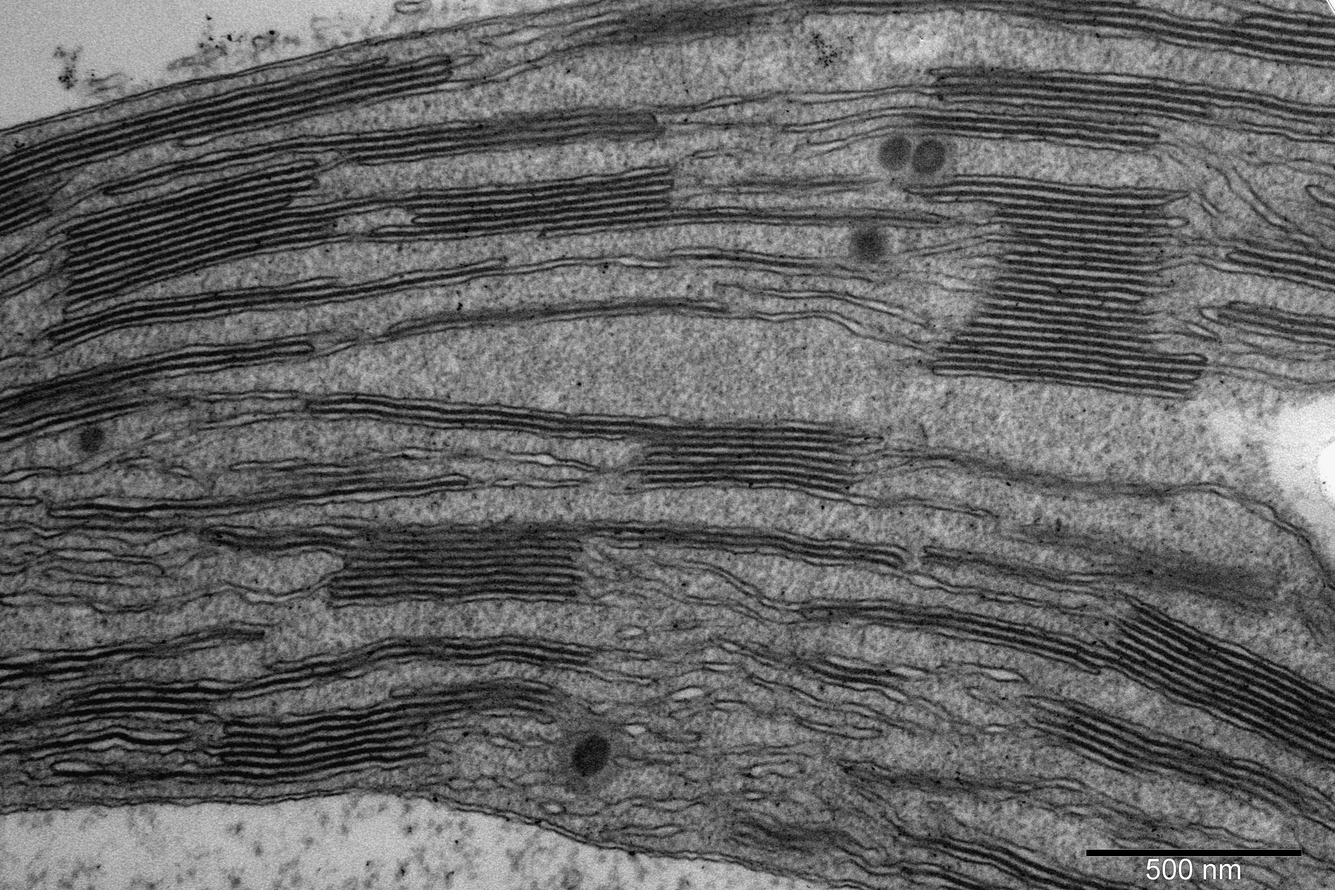granum: (303, 380, 859, 508), (920, 168, 1214, 409), (55, 154, 339, 320), (1020, 691, 1324, 837), (0, 326, 318, 456), (1108, 599, 1335, 778), (235, 510, 589, 614), (160, 46, 458, 152), (1012, 516, 1287, 623), (790, 593, 1113, 680), (42, 269, 344, 358), (333, 95, 672, 170), (259, 627, 605, 698), (0, 101, 171, 241), (405, 158, 677, 244), (601, 515, 917, 584), (535, 0, 814, 71), (931, 62, 1217, 130), (385, 673, 574, 772), (216, 691, 394, 792), (929, 813, 1153, 890), (898, 103, 1169, 160), (991, 0, 1234, 59), (48, 674, 215, 733), (43, 486, 186, 551), (775, 637, 912, 703), (1222, 1, 1335, 72), (1219, 226, 1335, 295), (0, 634, 127, 693), (1211, 295, 1335, 355), (721, 803, 847, 857)
